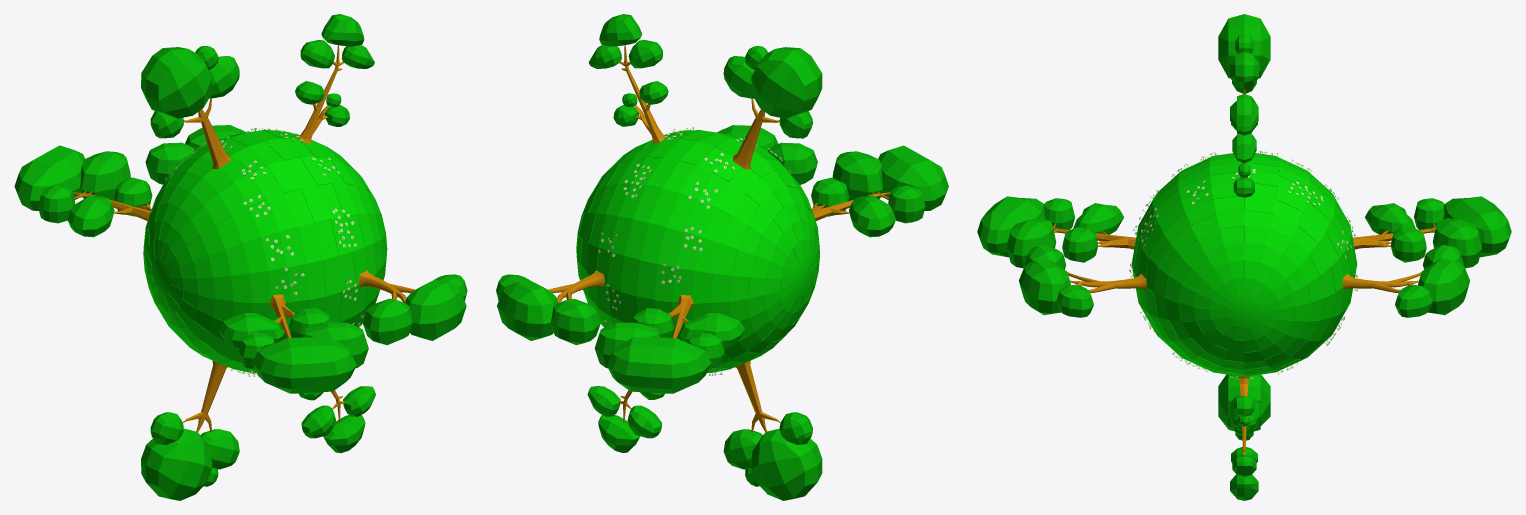
File: FinishWorld.fbx
The picture shows the model from 3 angles, left to right: view 1: azimuth 30°, elevation 25°; view 2: azimuth 150°, elevation 25°; view 3: azimuth 270°, elevation 25°; orthographic projection. The views are drawn at different scales.
Visible parts, largest first — view 1: WorldMesh, WTree2, WTree4, WTree5, WTree7, WTree1, WTree6, WTree8, WTree3; view 2: WorldMesh, WTree4, WTree2, WTree5, WTree7, WTree3, WTree6, WTree8, WTree1; view 3: WorldMesh, WTree4, WTree2, WTree3, WTree1, WTree5, WTree8, WTree6, WTree7.
Part boxes in pixels (bbox=[...]): WorldMesh: bbox=[143, 130, 387, 372]; WTree2: bbox=[218, 294, 368, 393]; WTree4: bbox=[14, 145, 152, 237]; WTree5: bbox=[141, 46, 239, 168]; WTree7: bbox=[141, 361, 239, 500]; WTree1: bbox=[359, 270, 467, 345]; WTree6: bbox=[295, 14, 374, 143]; WTree8: bbox=[298, 386, 375, 453]; WTree3: bbox=[145, 125, 246, 184]; WorldMesh: bbox=[576, 130, 819, 372]; WTree4: bbox=[594, 294, 745, 393]; WTree2: bbox=[811, 145, 948, 237]; WTree5: bbox=[723, 46, 822, 169]; WTree7: bbox=[723, 360, 822, 500]; WTree3: bbox=[496, 270, 604, 345]; WTree6: bbox=[588, 14, 668, 143]; WTree8: bbox=[587, 386, 665, 452]; WTree1: bbox=[717, 125, 817, 184]; WorldMesh: bbox=[1131, 153, 1357, 376]; WTree4: bbox=[1353, 196, 1511, 268]; WTree2: bbox=[977, 196, 1135, 268]; WTree3: bbox=[1342, 245, 1469, 317]; WTree1: bbox=[1019, 245, 1146, 317]; WTree5: bbox=[1218, 14, 1270, 94]; WTree8: bbox=[1230, 376, 1258, 500]; WTree6: bbox=[1230, 94, 1258, 197]; WTree7: bbox=[1218, 374, 1270, 440].
Size of the model in its own units: 22.46 by 40.67 by 47.49.
